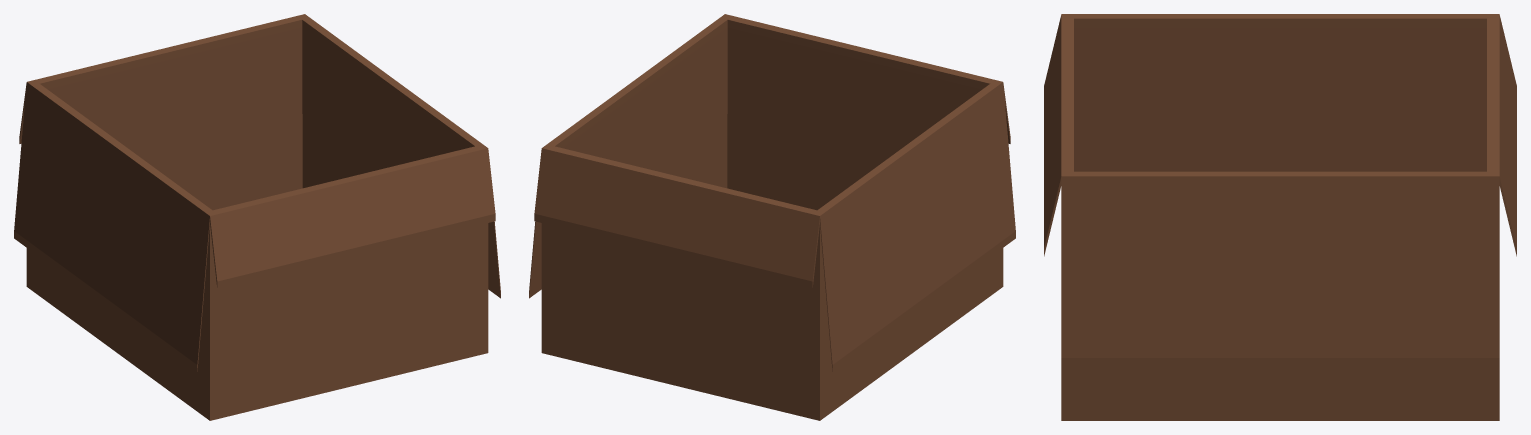
File: Caja.fbx
3 views of the same model, side by side, from view 1: azimuth 30°, elevation 25°; view 2: azimuth 150°, elevation 25°; view 3: azimuth 270°, elevation 25° (orthographic). The views are drawn at different scales.
Visible parts, largest first — view 1: Cube; view 2: Cube; view 3: Cube.
Boxes of the visible parts, x1,y1,x2,y2 form: Cube: (14, 14, 500, 420); Cube: (529, 14, 1015, 420); Cube: (1044, 14, 1516, 420).
Bounding box in the file's own units: 843 × 544 × 952.
